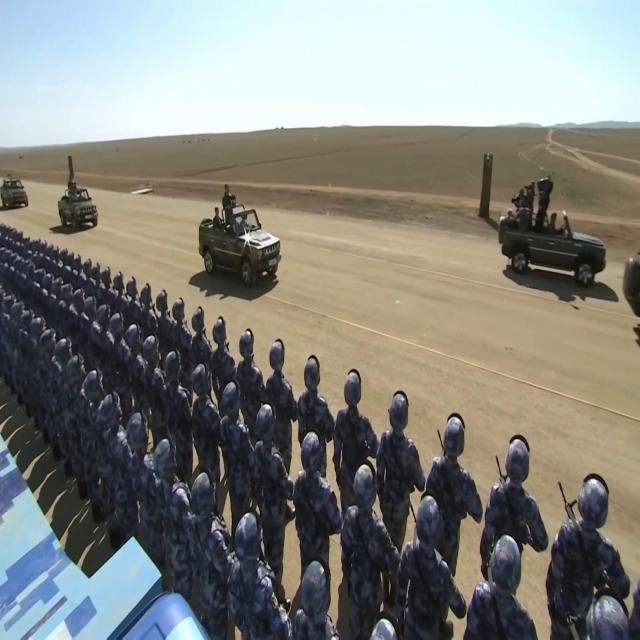Soldier: (186, 474, 230, 636), (236, 517, 286, 639), (383, 388, 419, 527), (150, 432, 184, 576), (435, 414, 472, 524), (294, 556, 338, 640), (253, 403, 280, 517), (99, 385, 118, 511), (123, 411, 145, 517), (488, 526, 526, 587), (222, 382, 245, 478), (193, 363, 217, 451), (163, 345, 184, 437), (504, 432, 534, 488), (414, 496, 443, 550), (577, 478, 610, 522), (298, 426, 323, 481), (354, 465, 380, 511), (126, 324, 140, 398), (145, 333, 157, 419), (301, 356, 325, 398), (344, 365, 364, 412), (109, 303, 121, 378), (67, 350, 85, 396), (268, 336, 288, 370), (238, 321, 255, 359), (192, 304, 208, 343), (54, 334, 72, 367), (211, 314, 228, 347), (171, 292, 188, 324), (85, 365, 97, 401), (84, 296, 96, 318)
